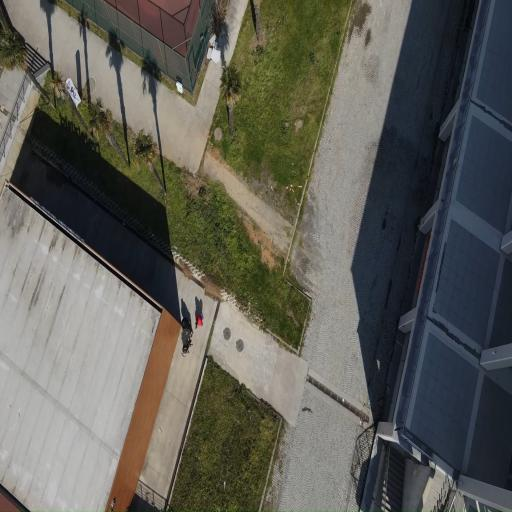person: (181, 318, 192, 356), (181, 318, 192, 338), (195, 312, 202, 328)
